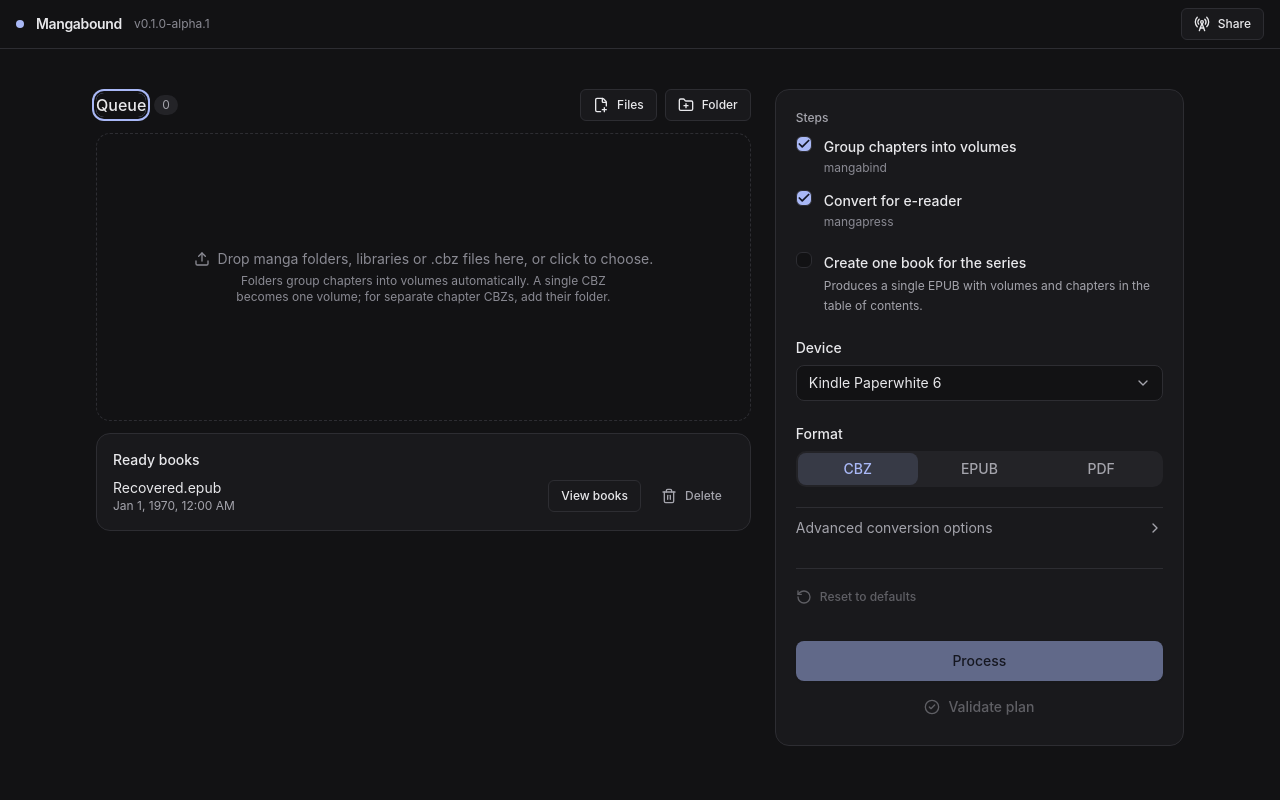
queue application workflow › recovers an unsaved book after reopening and lets it be saved without rerunning conversion
The width and height of the screenshot is (1280, 800).
expect the heading "Ready books" is shown: met, box [113,451,200,468]
expect the text "Recovered.epub" is shown: met, box [113,479,221,496]
Click the button with aria-label "View books from Recovered.epub" at point(595, 496), box [548,480,641,512]
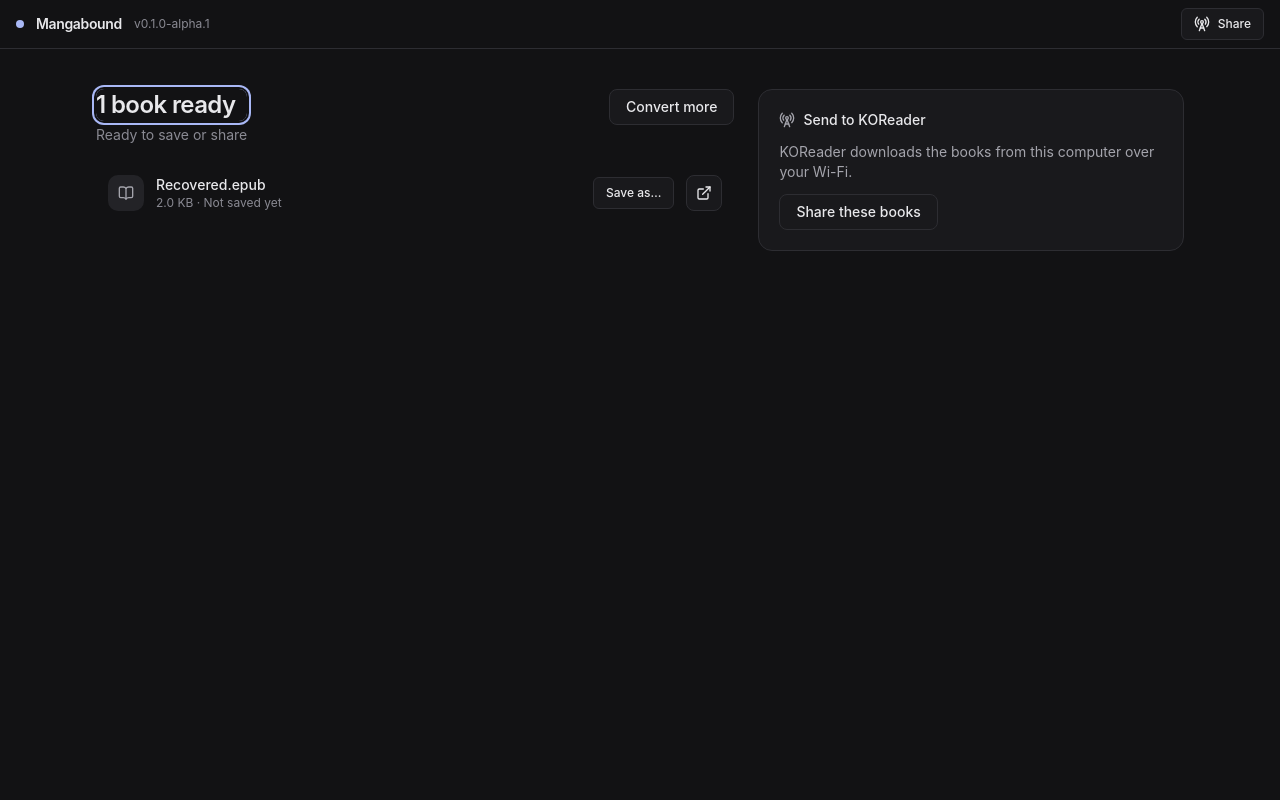
expect the heading "1 book ready" is shown: met, box [96,89,247,121]
expect the text "2.0 KB · Not saved yet" is shown: met, box [156,195,282,210]
Click the button with aria-label "Save Recovered.epub as" at point(634, 193), box [593,177,674,209]
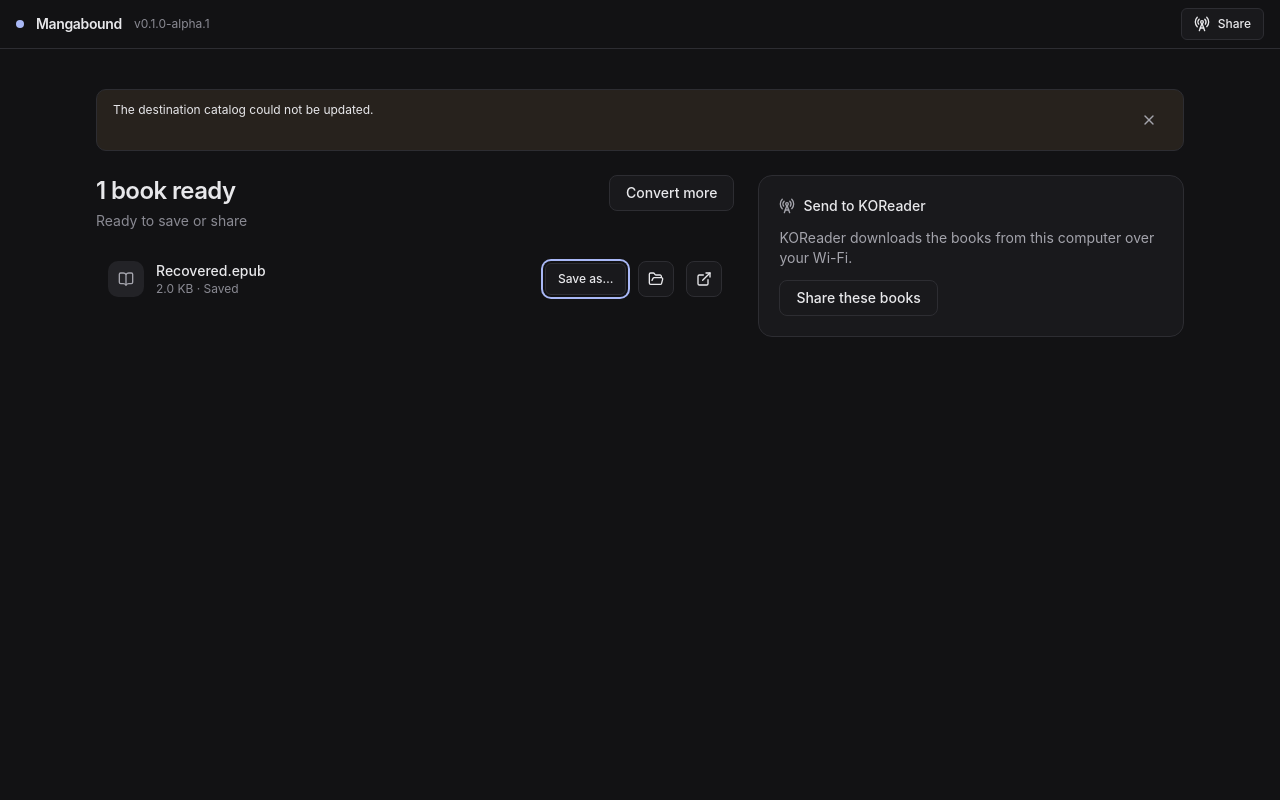
expect the text "2.0 KB · Saved" is shown: met, box [156,281,239,296]
expect the list item "The destination catalog could not be updated." is shown: met, box [113,102,374,117]
